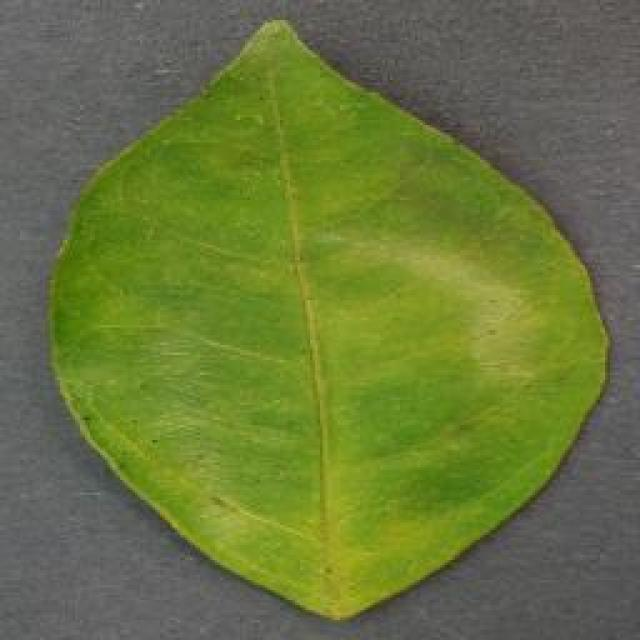Orange_Haunglongbing_Citrus_greening: (106, 100, 526, 568)
